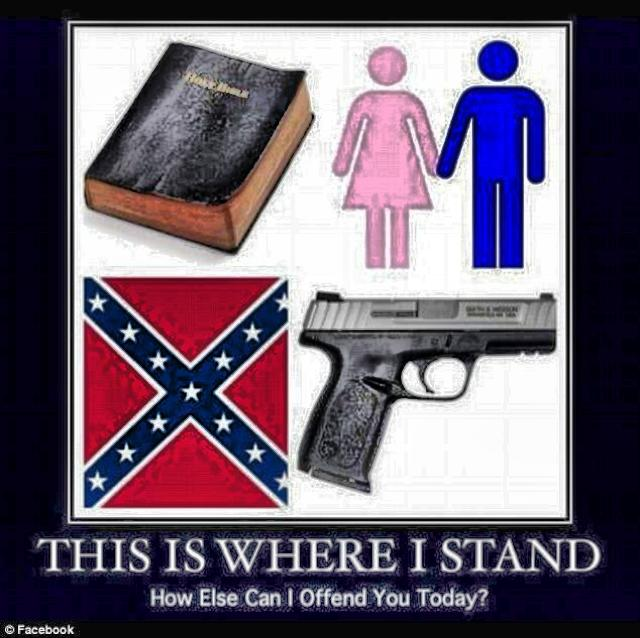pistol: (294, 287, 556, 495)
